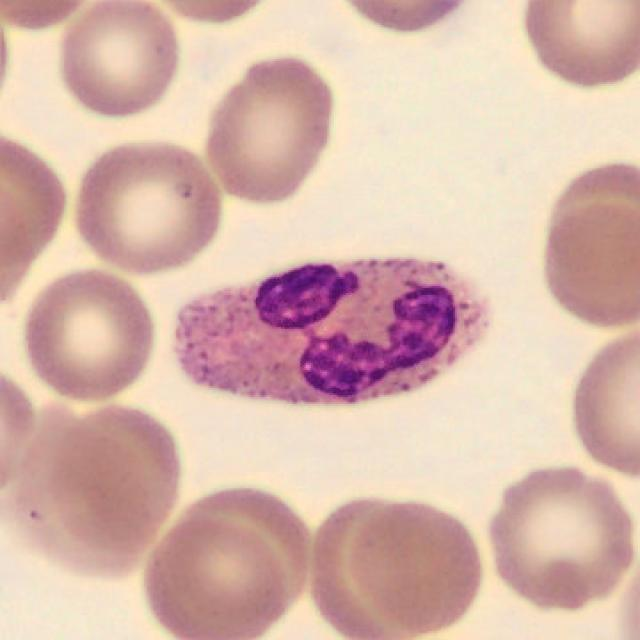Neutrofilo segmentado: (176, 259, 485, 402)
